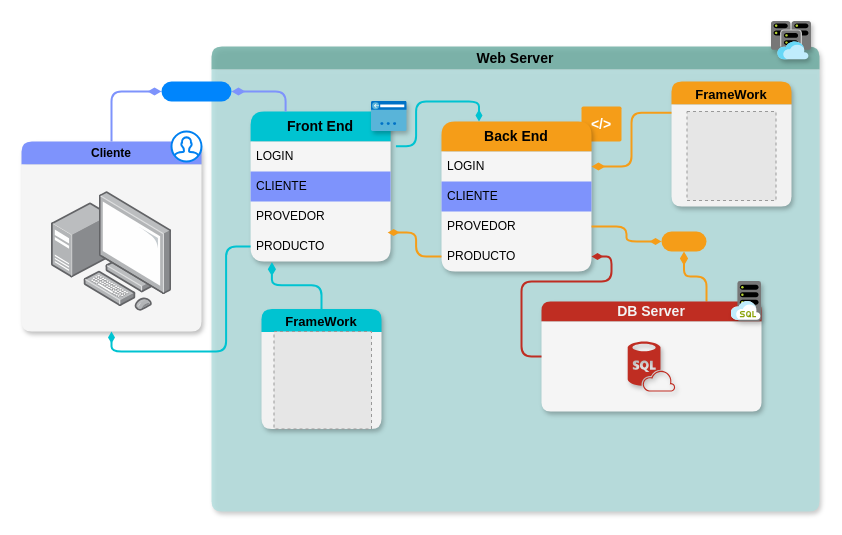
Some shapes in this 842 by 535 pixel diagram are drawn without their labels. Grey dashed boxes stand in for pictures. The centre of each missing label's shape, as x and y in pixels:
HTTP: the point at 196,91
TPC: the point at 683,241
